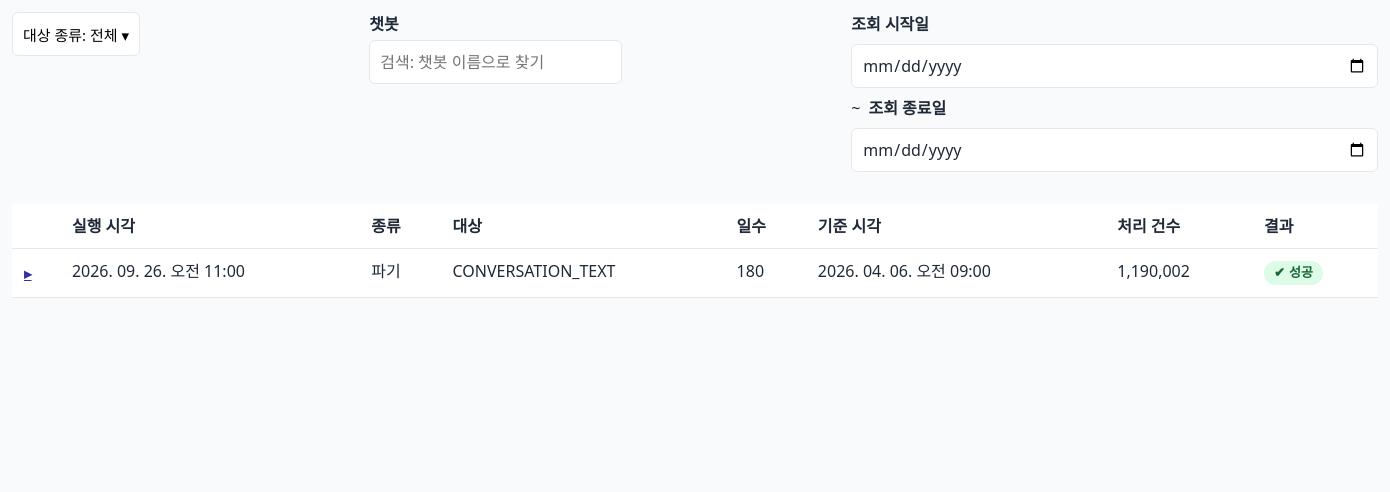
Test: PurgeHistoryPage › 행을 펼치면 체인 머리 해시를 앞 12자리 + 복사 버튼으로 보여준다
The image size is (1390, 492).
Click the button named "펼치기". click: click(28, 273)
box: [24, 259, 32, 287]
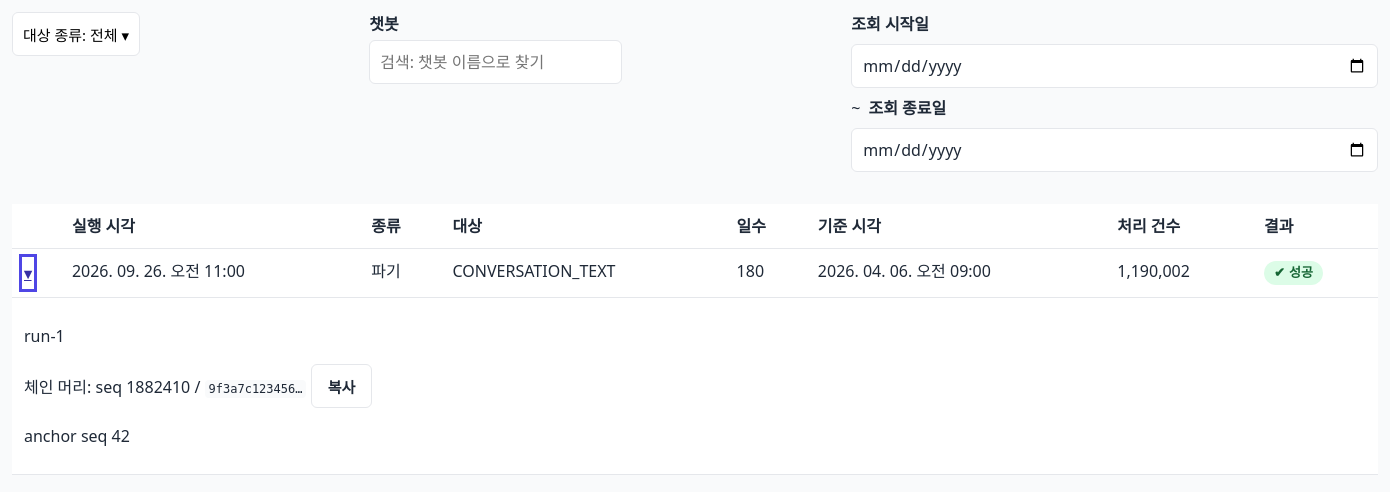
Result: the text "9f3a7c123456…" is shown at [204, 380, 306, 398]
Result: the button "복사" is shown at [311, 364, 372, 408]
